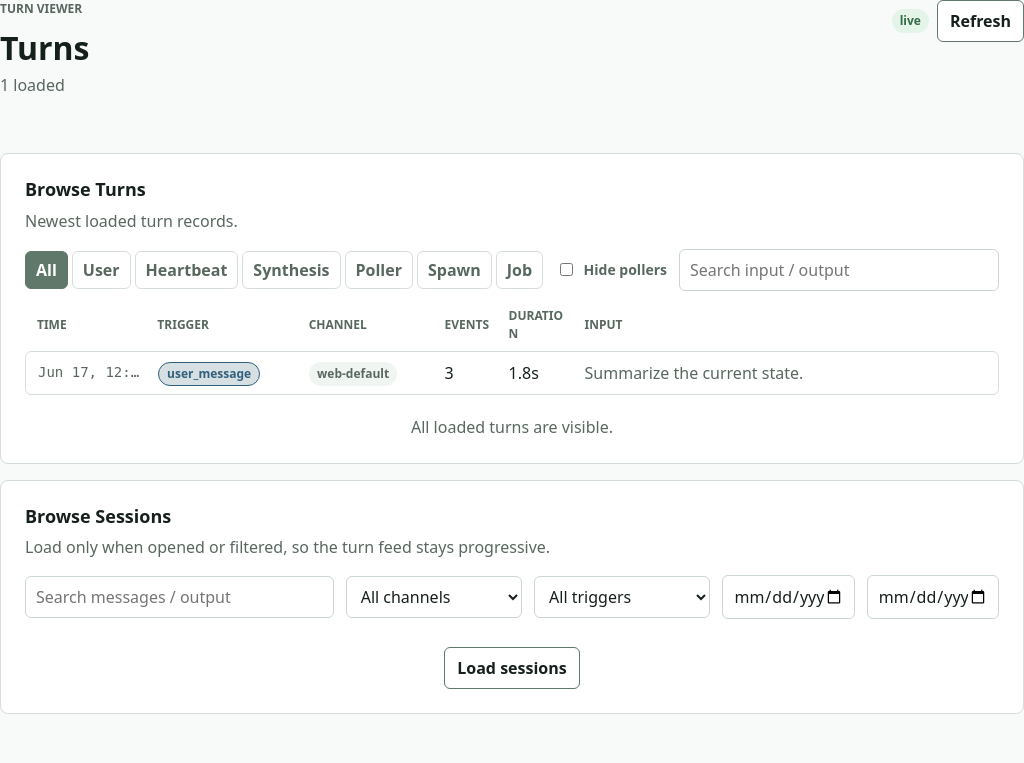
it: TurnsRoute › opens the detail drawer on click and closes it again (#568/#570)
Expected: the text "Selected Turn" is not shown
Click the text "Summarize the current state.". click: (694, 373)
box: [584,362,803,384]
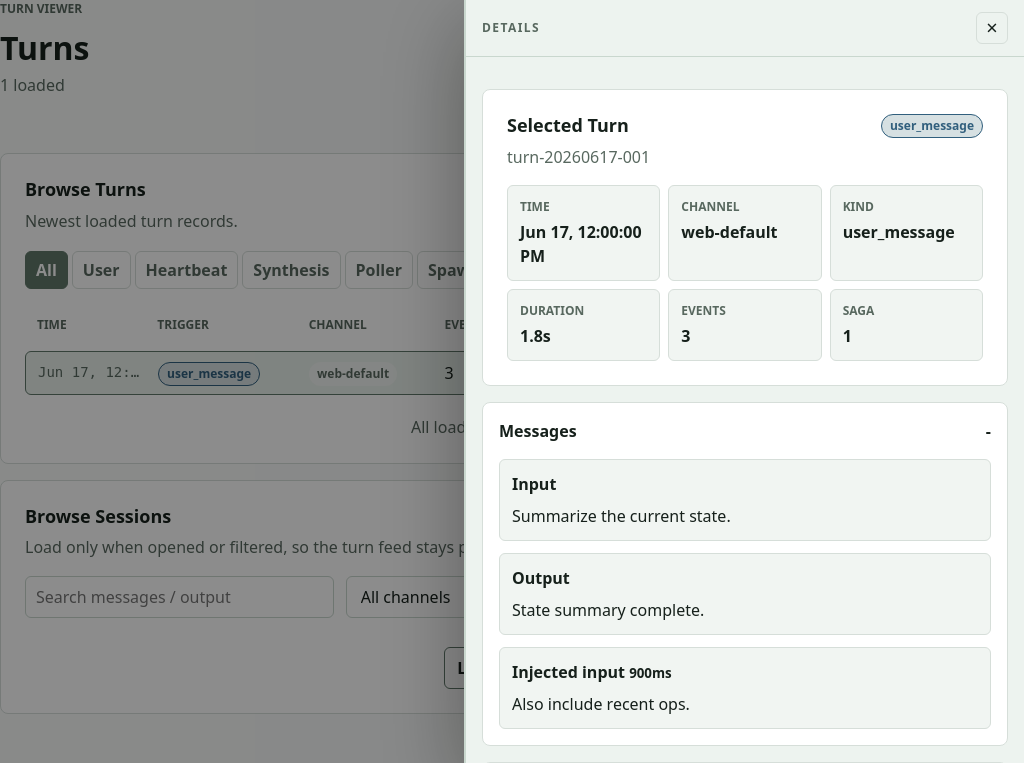
Now the heading "Selected Turn" is shown, box [507,114,650,136]
Click the button named "Close details". click: (992, 28)
box: [976,12,1008,44]
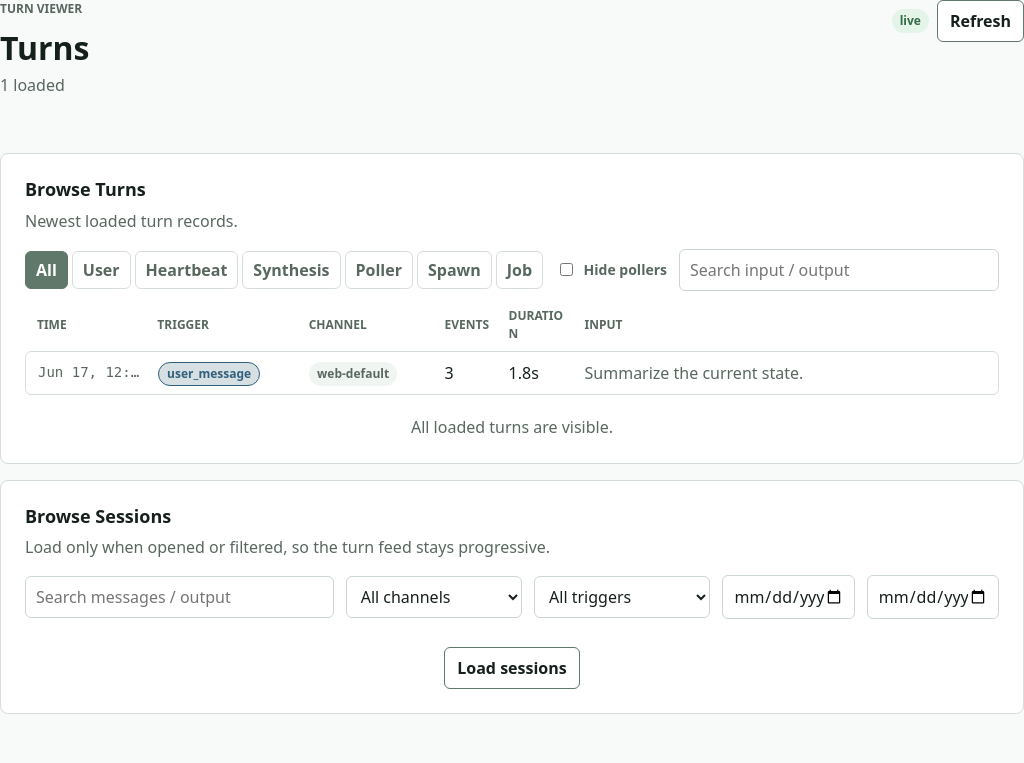
Now the heading "Selected Turn" is gone
